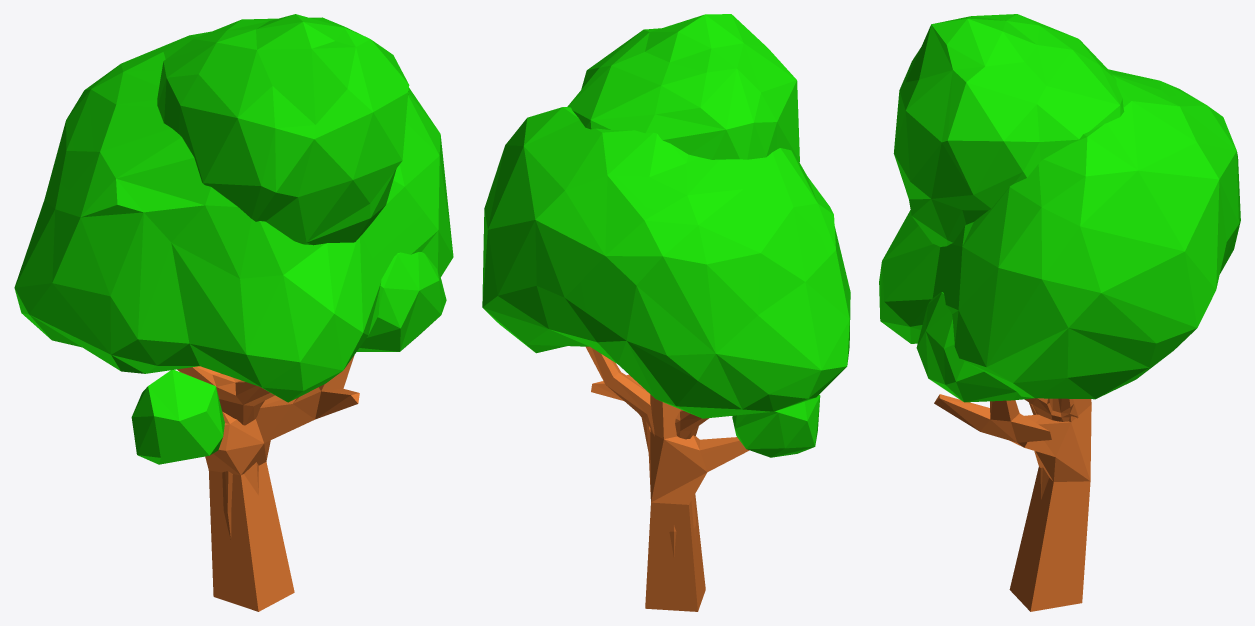
File: Evervale_TreeImports_Case1.fbx
3 views of the same model, side by side, from view 1: azimuth 30°, elevation 25°; view 2: azimuth 150°, elevation 25°; view 3: azimuth 270°, elevation 25° (orthographic). The views are drawn at different scales.
Visible parts, largest first — view 1: WoodTree, HardwoodTree; view 2: WoodTree, HardwoodTree; view 3: WoodTree, HardwoodTree.
Part boxes in pixels (bbox=[...]): WoodTree: bbox=[14, 31, 453, 539]; HardwoodTree: bbox=[131, 14, 446, 611]; WoodTree: bbox=[482, 107, 850, 556]; HardwoodTree: bbox=[567, 14, 820, 611]; WoodTree: bbox=[879, 69, 1240, 499]; HardwoodTree: bbox=[893, 14, 1124, 611].
Size of the model in its own units: 378 by 556 by 313.
